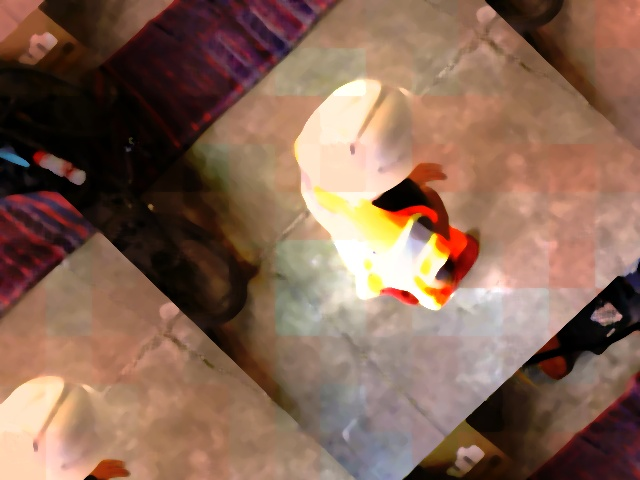three: (305, 121, 359, 172)
